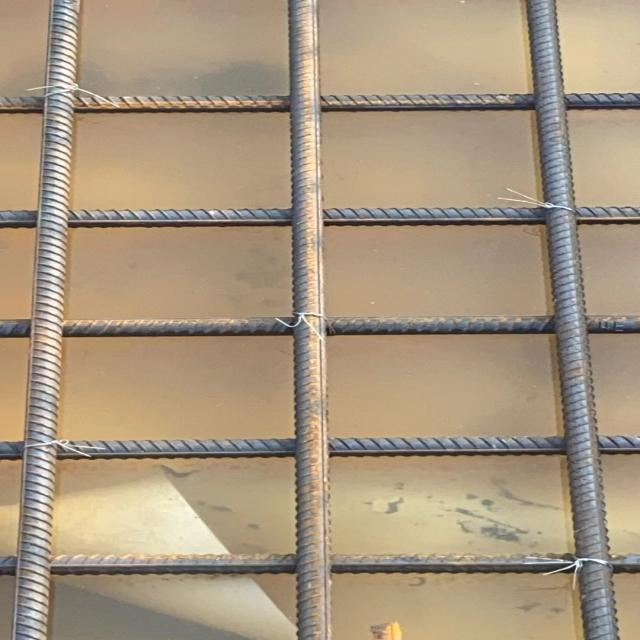ribbed bar: (524, 0, 620, 639), (10, 0, 83, 639), (285, 0, 329, 639), (0, 314, 639, 338), (0, 436, 639, 460), (0, 206, 639, 228), (0, 554, 639, 575), (0, 93, 639, 113)
